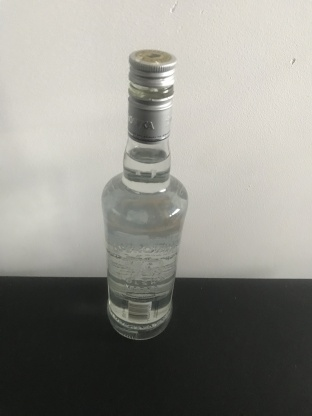nakretka: (126, 47, 177, 144)
